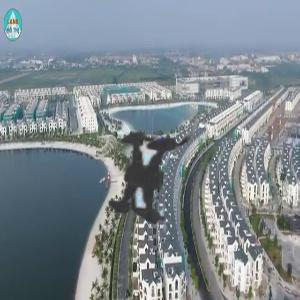drone: (31, 71, 254, 294)
